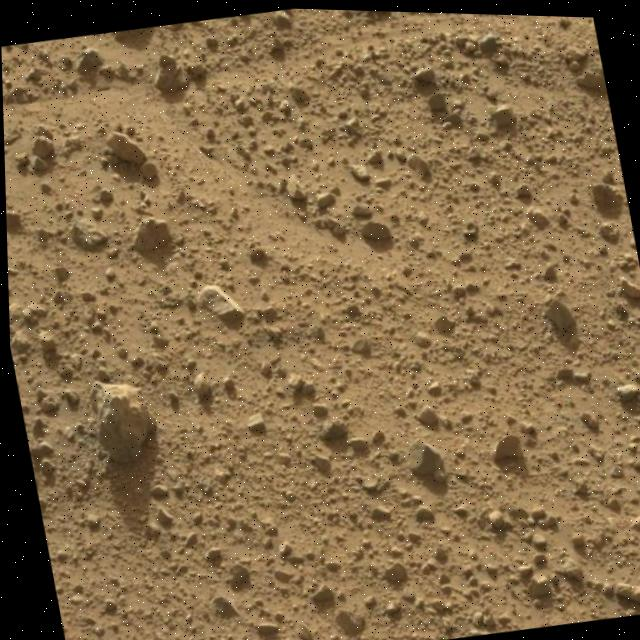mars-rocks: (86, 382, 151, 463)
